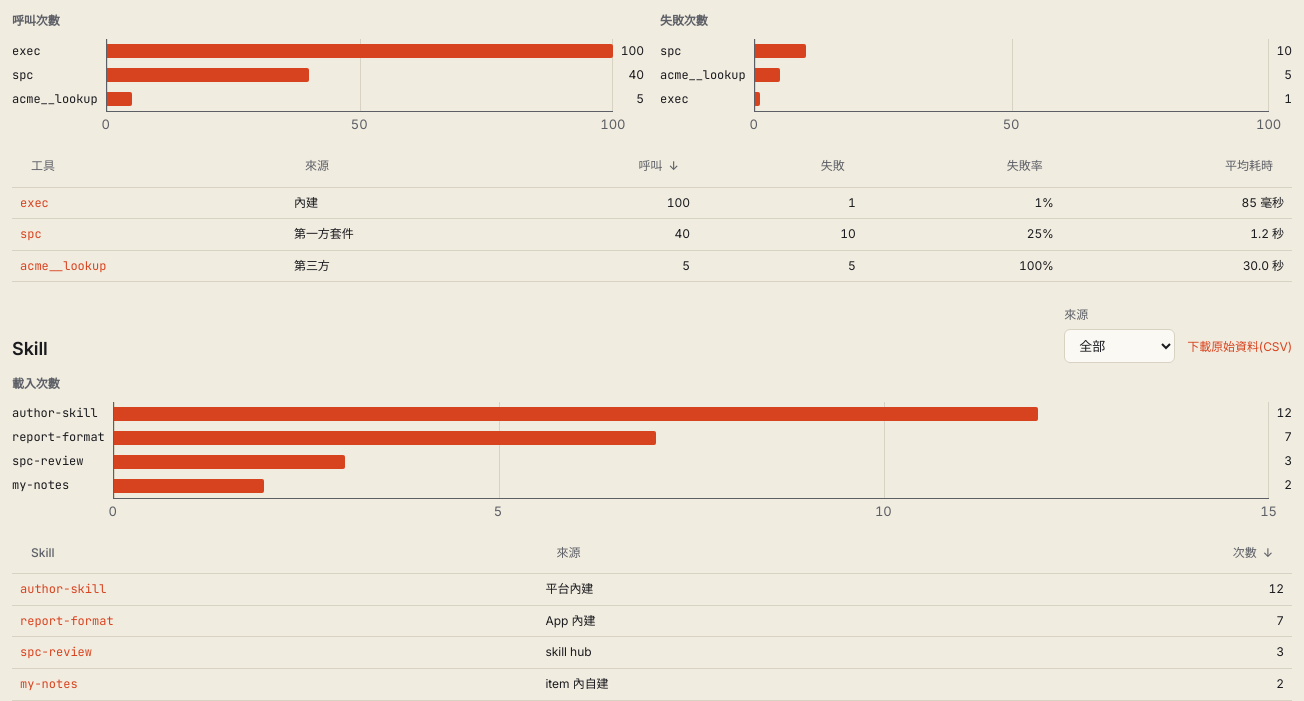
Test: skills (plan §8) › opens one skill's breakdown, in its own part, with a count only
(page scrolled)
Click the button "author-skill". click: (63,589)
box: [20,580,106,599]
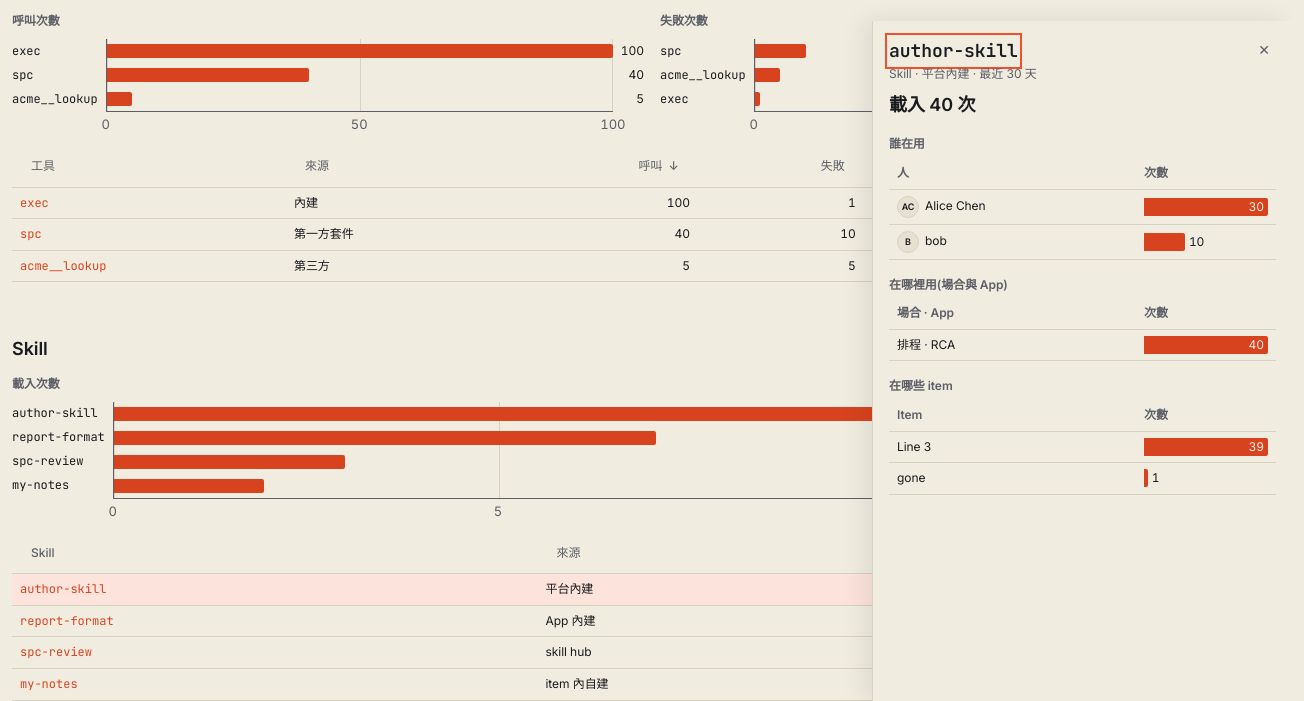
Now the text "Alice Chen" is shown, box [925,197,986,216]
